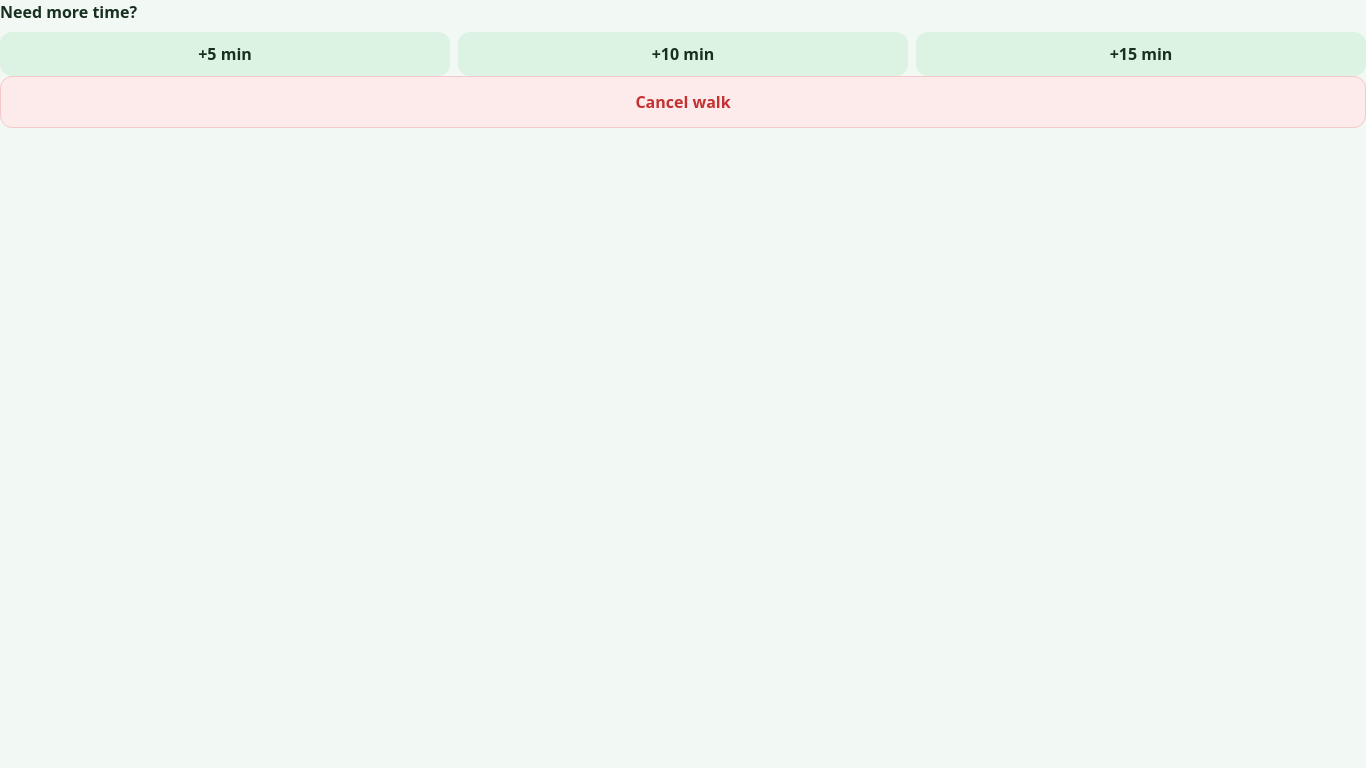
Test: Keep walking closes the question without cancelling
The width and height of the screenshot is (1366, 768).
Click the button "Cancel walk": (683, 102) top-left (0, 76), bottom-right (1365, 128)
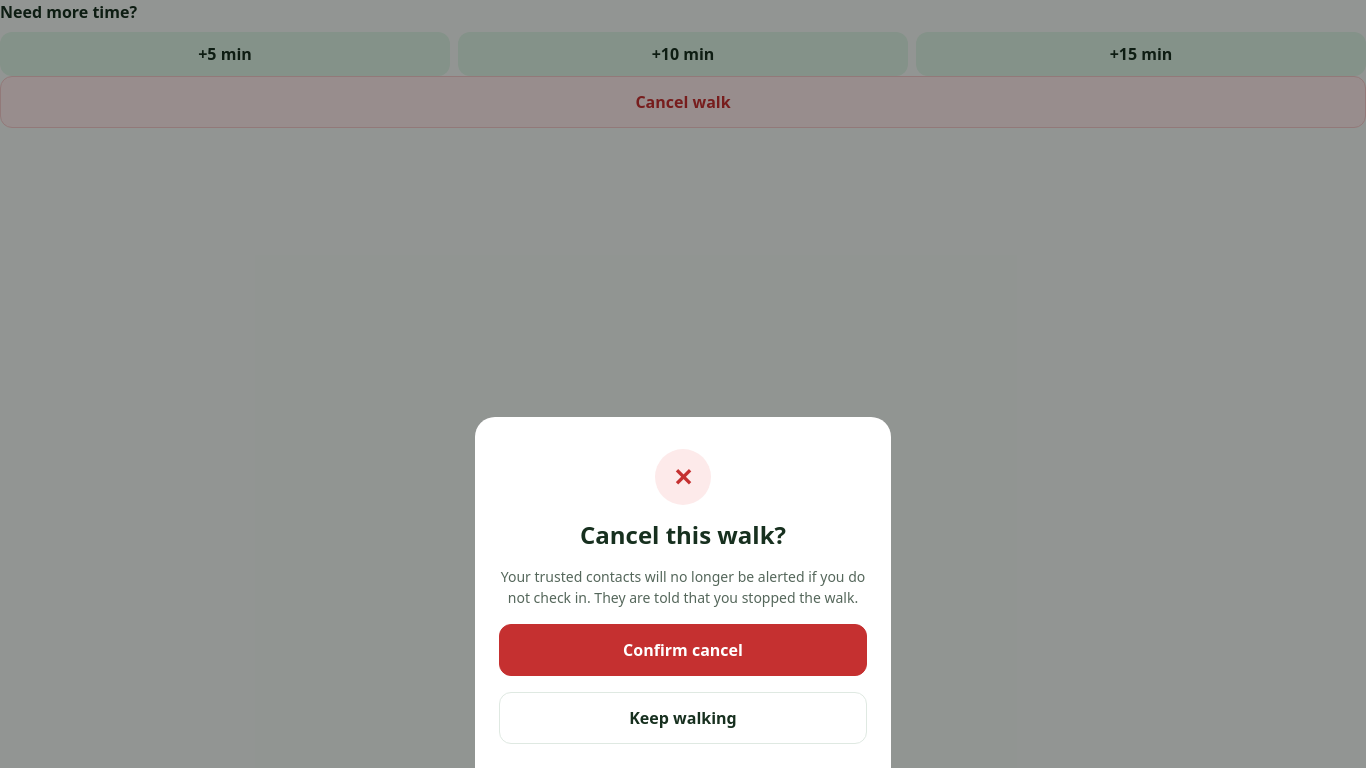
Click the button "Keep walking": (683, 718) top-left (499, 692), bottom-right (867, 744)
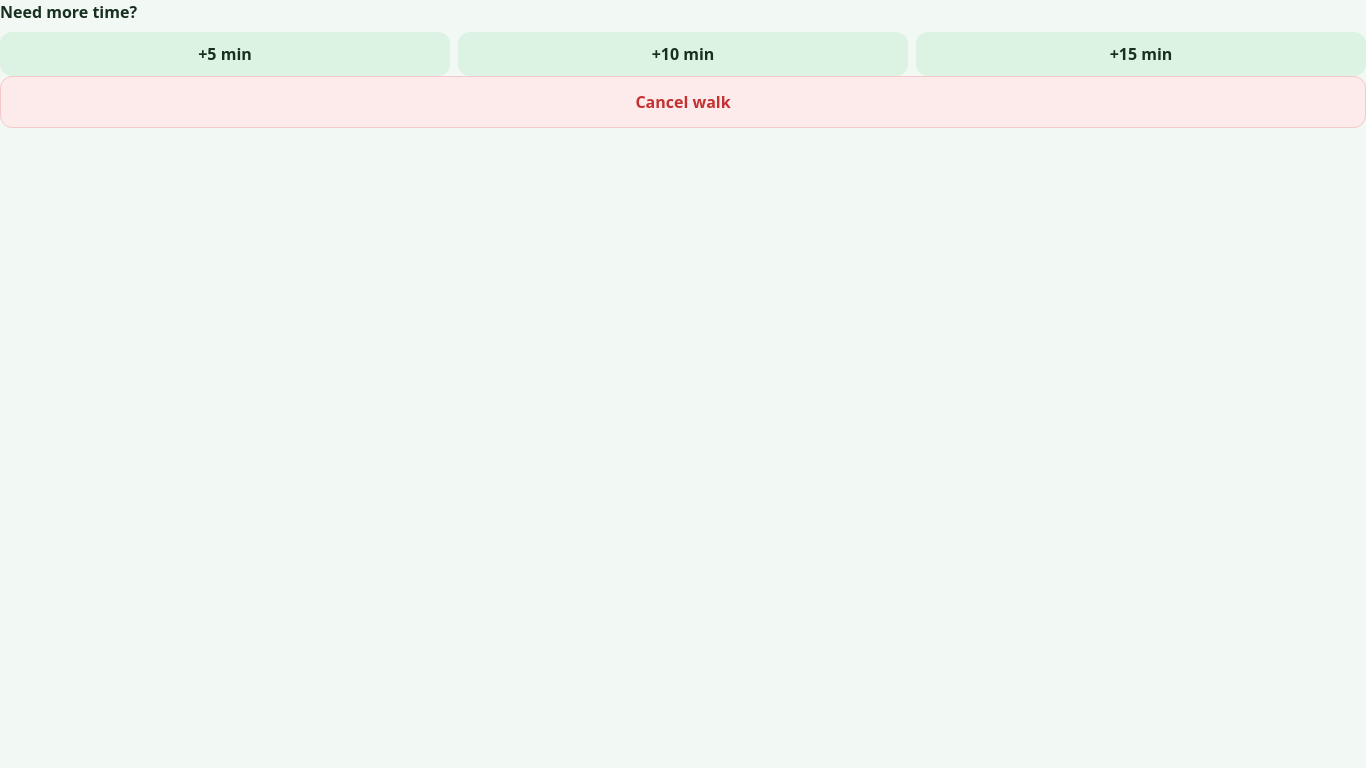
Expected: the dialog is gone
